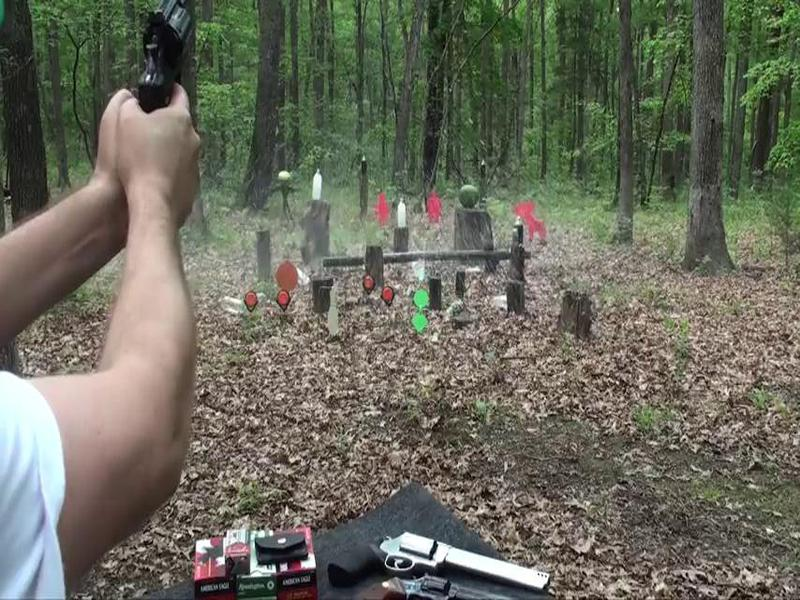Revolver: (128, 1, 211, 152)
